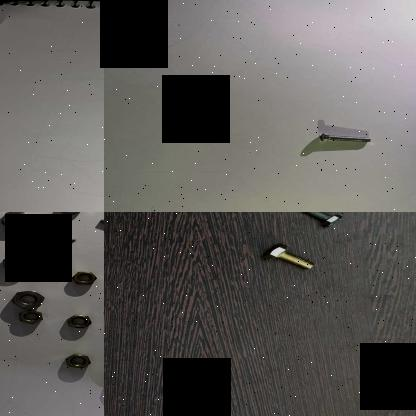Bolts: (260, 242, 316, 274), (312, 130, 376, 147), (18, 230, 76, 246), (296, 212, 345, 230)
NUTS: (0, 252, 37, 274), (10, 288, 46, 310), (0, 212, 35, 229), (64, 312, 93, 330), (70, 268, 98, 286), (15, 309, 44, 325), (65, 353, 90, 369)
